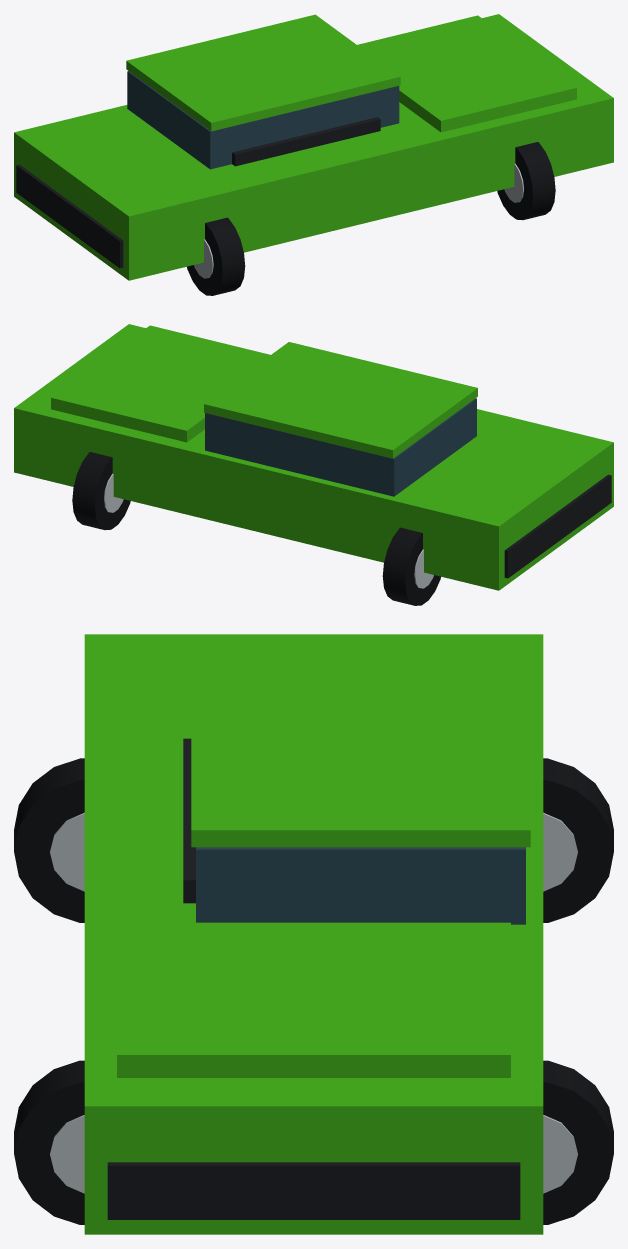
File: chevy_ss.glb
3 views of the same model, one above another, from view 1: azimuth 30°, elevation 25°; view 2: azimuth 150°, elevation 25°; view 3: azimuth 270°, elevation 25° (orthographic). The views are drawn at different scales.
Visible parts, largest first — view 1: body, roof, hood, cabin, rear_bumper, front_right_wheel, rear_right_wheel, interior; view 2: body, roof, hood, cabin, rear_bumper, front_left_wheel, rear_left_wheel; view 3: body, roof, hood, cabin, front_bumper, front_left_wheel, front_right_wheel, rear_left_wheel, rear_right_wheel, interior.
Boxes of the visible parts, x1,y1,x2,y2 form: body: [14, 14, 613, 280]; roof: [126, 14, 400, 131]; hood: [357, 15, 576, 132]; cabin: [127, 71, 399, 169]; rear_bumper: [16, 164, 123, 268]; front_right_wheel: [497, 142, 555, 220]; rear_right_wheel: [187, 217, 245, 295]; interior: [232, 117, 380, 166]; body: [14, 324, 613, 590]; roof: [204, 342, 477, 458]; hood: [51, 325, 270, 442]; cabin: [205, 398, 476, 496]; rear_bumper: [504, 474, 611, 578]; front_left_wheel: [72, 452, 130, 530]; rear_left_wheel: [382, 527, 440, 605]; body: [84, 634, 543, 1234]; roof: [191, 646, 530, 847]; hood: [117, 922, 510, 1077]; cabin: [196, 847, 525, 924]; front_bumper: [107, 1162, 520, 1219]; front_left_wheel: [543, 1060, 613, 1224]; front_right_wheel: [14, 1060, 84, 1224]; rear_left_wheel: [543, 758, 613, 922]; rear_right_wheel: [14, 758, 84, 922]; interior: [183, 738, 195, 903].
Size of the model in its own units: 4.81 by 1.35 by 2.55.
